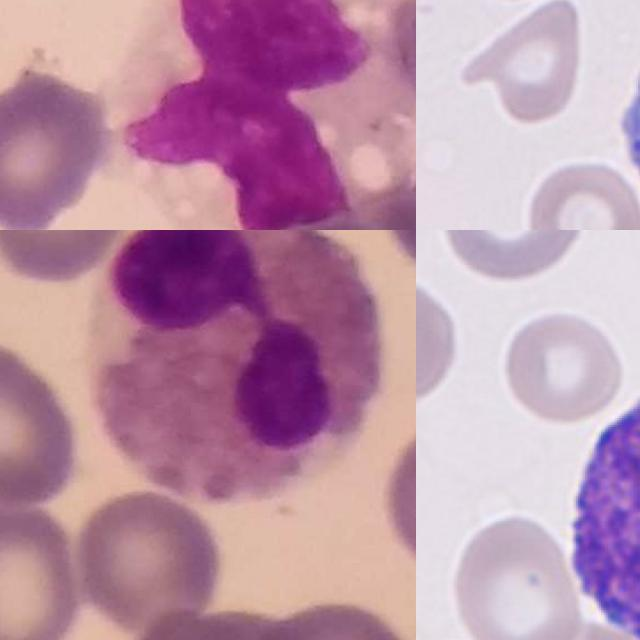Eosinophil: (89, 230, 395, 505)
Lymphocyte: (555, 370, 640, 640)
Monocyte: (119, 0, 416, 230)
RBC: (416, 230, 633, 327), (448, 506, 585, 640), (460, 0, 588, 124), (498, 306, 628, 425), (519, 157, 640, 230), (435, 230, 590, 283), (416, 268, 464, 409)
